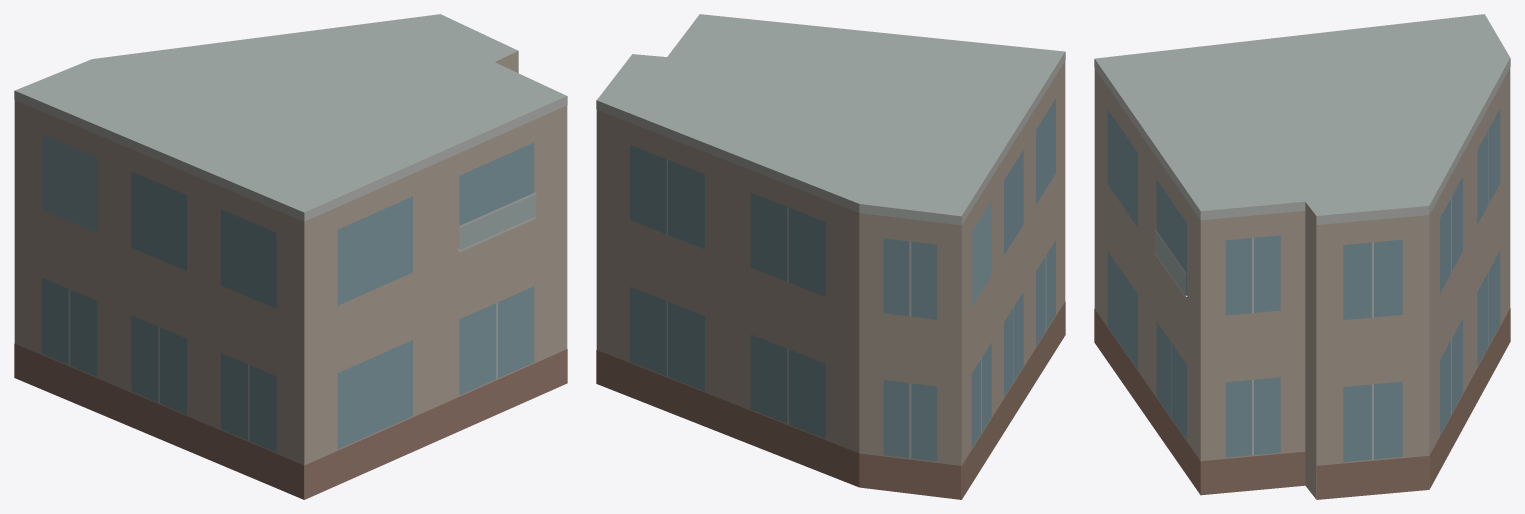
Rendered from survey-upis-32613368.glb.
The picture shows the model from 3 angles, left to right: view 1: azimuth 30°, elevation 25°; view 2: azimuth 150°, elevation 25°; view 3: azimuth 270°, elevation 25°; orthographic projection.
Parts seen in each view (by area): view 1: survey-upis-32613368.tmp; view 2: survey-upis-32613368.tmp; view 3: survey-upis-32613368.tmp.
Part boxes in pixels (x1=…): survey-upis-32613368.tmp: x1=14, y1=14, x2=567, y2=499; survey-upis-32613368.tmp: x1=596, y1=14, x2=1065, y2=499; survey-upis-32613368.tmp: x1=1094, y1=14, x2=1510, y2=499.
Size of the model in its own units: 11.61 by 7.6 by 10.1.
